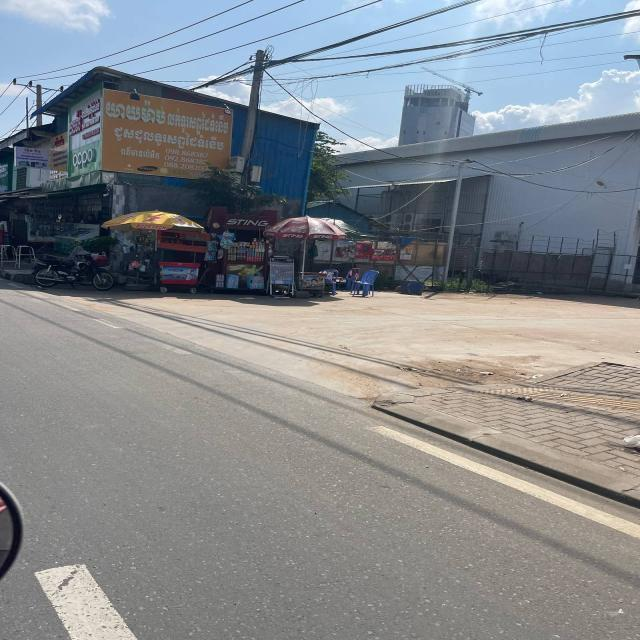Yolov11kh: (103, 91, 230, 140), (113, 124, 226, 154), (164, 147, 212, 158), (163, 154, 204, 166), (162, 161, 203, 172)
